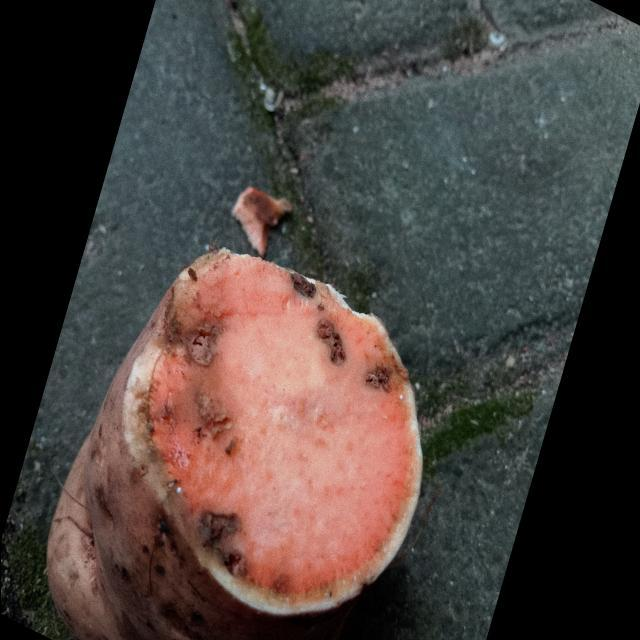Sick Sweet Potato_Tuber Rot: (122, 250, 420, 615)
